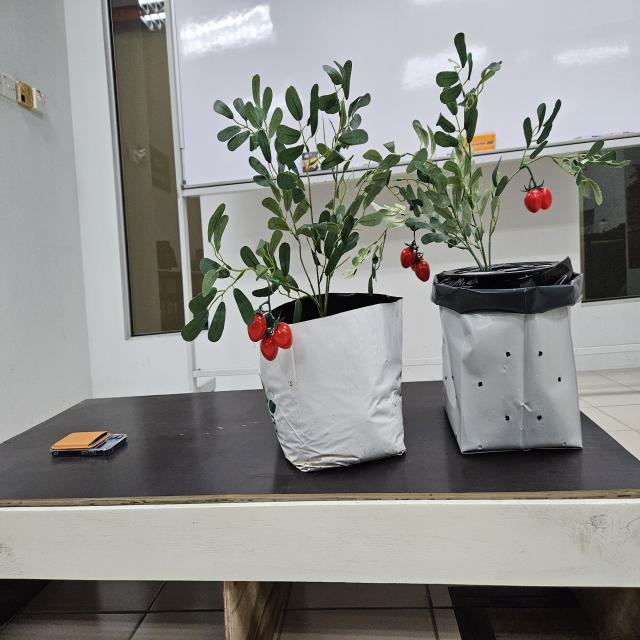Soilbag: (433, 261, 582, 457), (258, 292, 405, 474)
Tomato: (247, 312, 293, 361), (399, 242, 432, 282), (524, 187, 552, 214)
plant: (181, 61, 414, 344), (386, 33, 631, 283)
